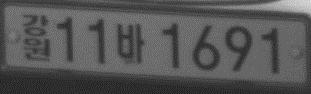1: (259, 26, 284, 76), (160, 21, 182, 70), (86, 17, 108, 65), (54, 15, 75, 63)
6: (192, 24, 220, 70)
9: (224, 24, 253, 72)
강원_V: (22, 13, 50, 62)
바: (116, 22, 146, 64)
